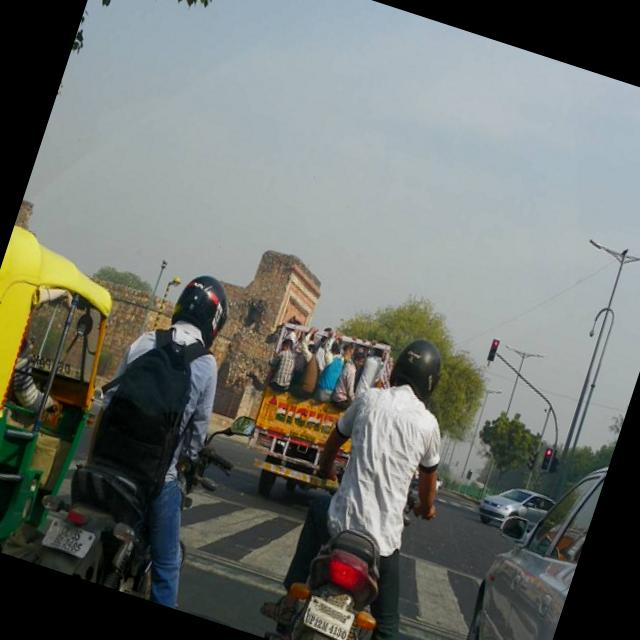Vehicle: (0, 219, 135, 563), (440, 429, 611, 640), (226, 312, 392, 524), (31, 444, 171, 596), (267, 517, 412, 640), (476, 478, 554, 540), (230, 418, 256, 438)
